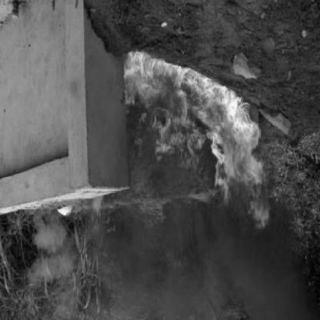Fire: (68, 47, 284, 261)
